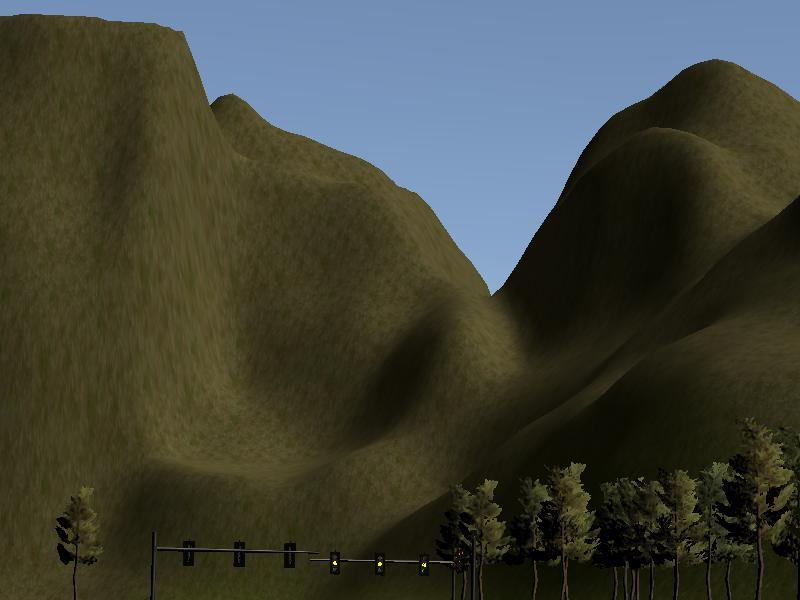Yellow: (329, 552, 341, 577), (418, 554, 430, 579), (374, 553, 386, 577)
